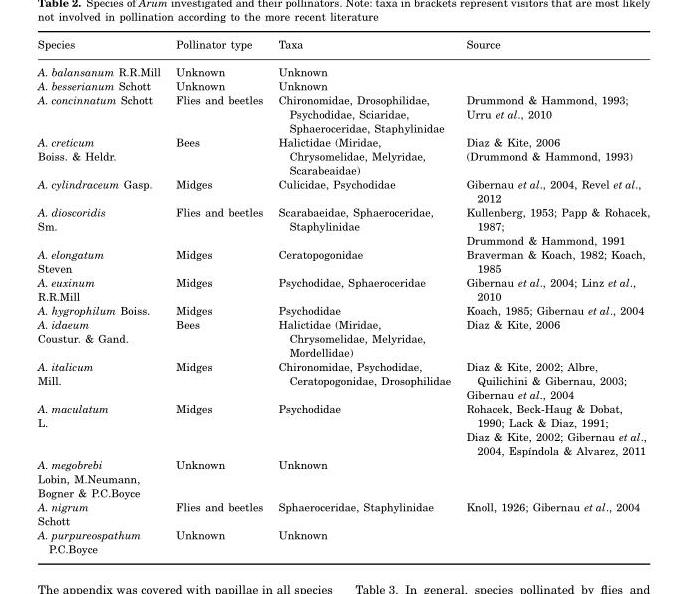table: (37, 37, 649, 554)
table column: (457, 37, 649, 554), (270, 37, 457, 554), (37, 37, 167, 554), (167, 37, 270, 554)
table column header: (37, 37, 649, 57)
table row: (37, 401, 649, 457), (37, 316, 649, 359), (37, 92, 649, 134), (37, 134, 649, 176), (37, 204, 649, 246), (37, 359, 649, 401), (37, 457, 649, 499), (37, 176, 649, 204), (37, 246, 649, 274), (37, 274, 649, 302), (37, 499, 649, 527), (37, 527, 649, 554), (37, 57, 649, 78), (37, 37, 649, 57), (37, 78, 649, 92), (37, 302, 649, 316)
